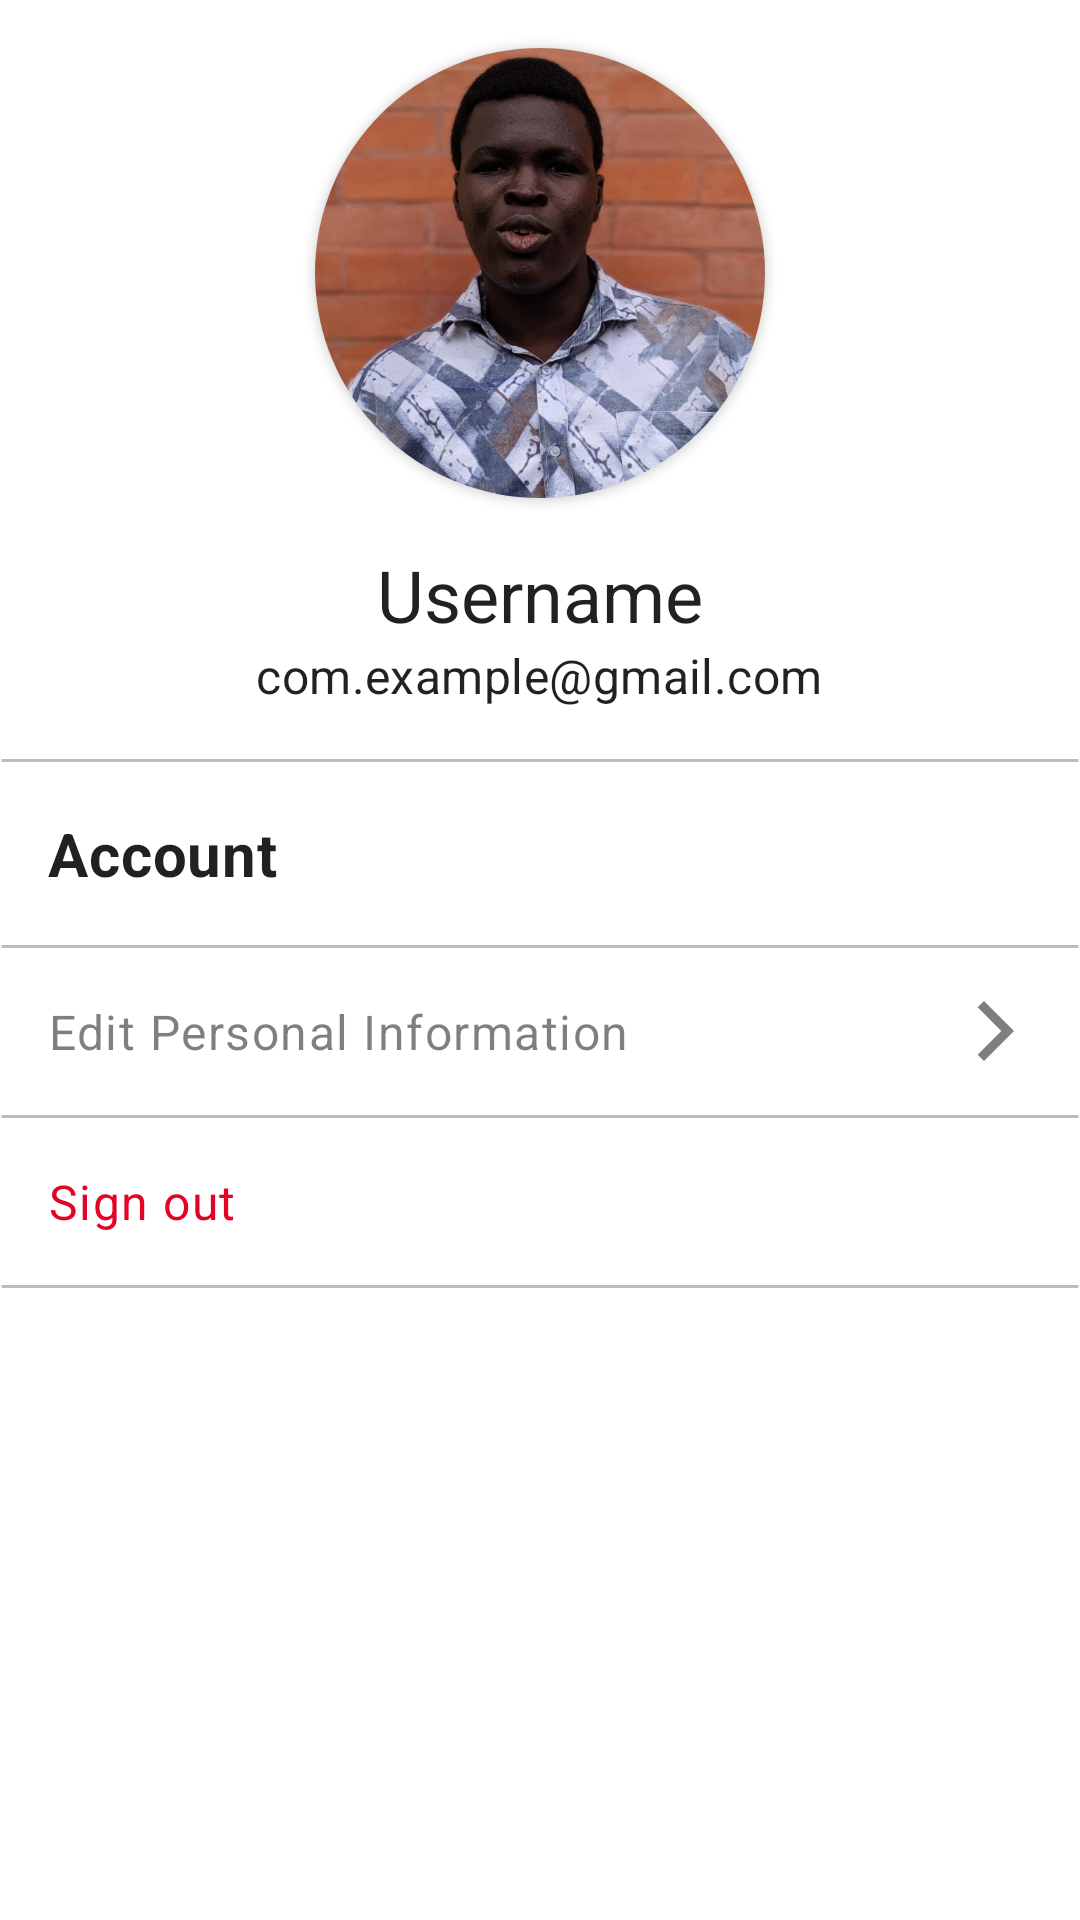

Named icons in this screenshot (1080×1920) and their centers, [x,y]:
arrow forward: [996,1031]
